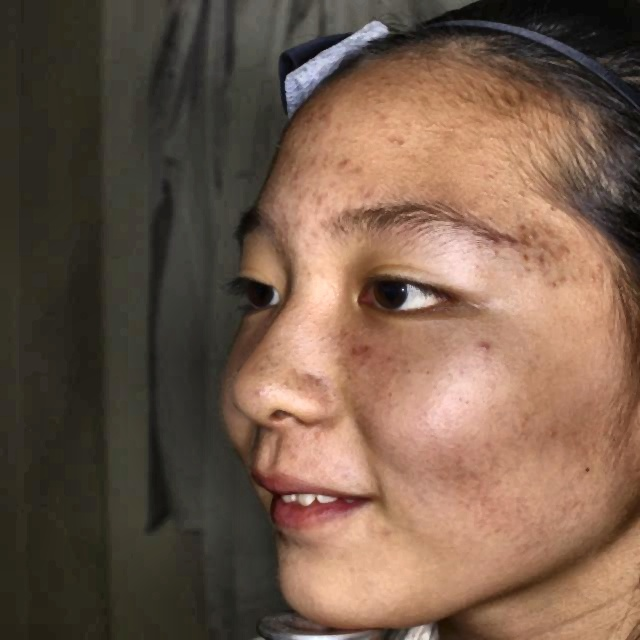pustule: (538, 244, 563, 274), (339, 338, 374, 356), (336, 157, 360, 183), (287, 163, 312, 184), (511, 248, 535, 263), (557, 237, 572, 260), (513, 224, 536, 239)
